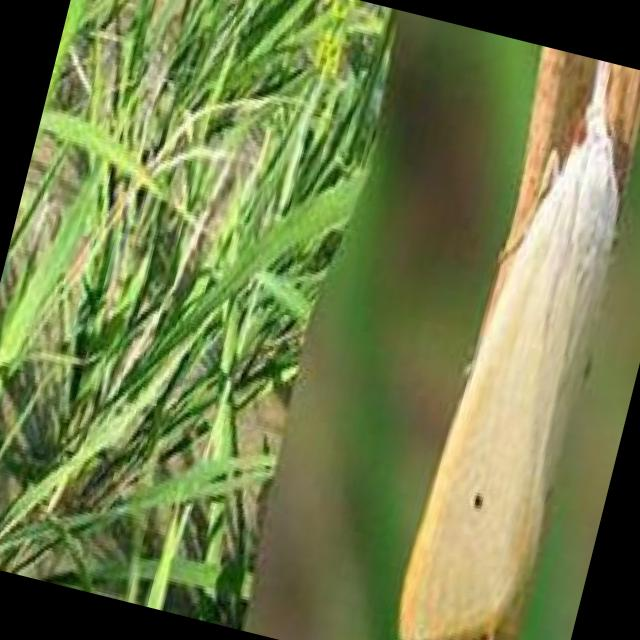stem-borer: (387, 44, 640, 640)
